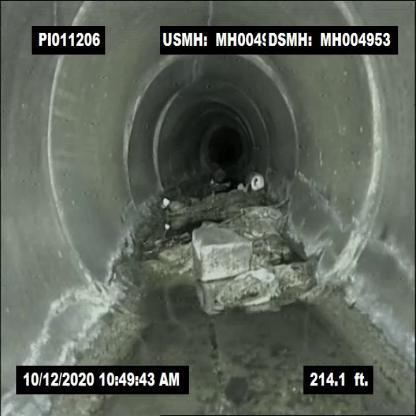crack: (28, 287, 85, 364), (299, 171, 349, 232), (205, 317, 234, 415), (369, 230, 415, 287), (49, 1, 63, 26), (203, 1, 217, 24)
